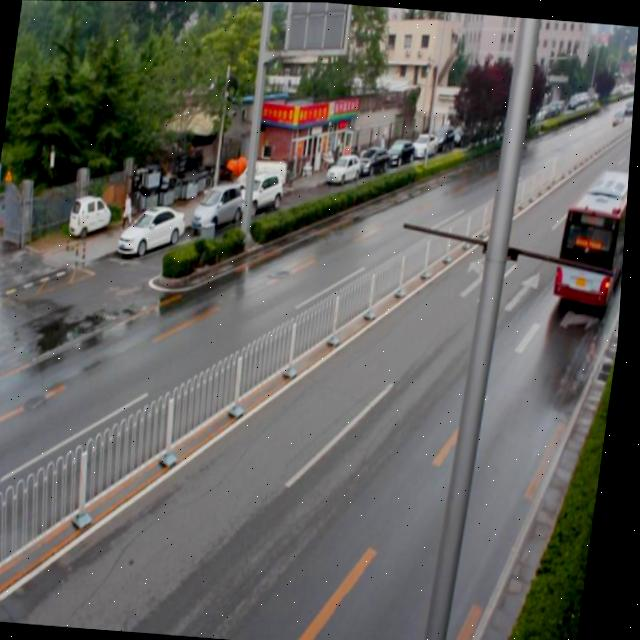van: (553, 164, 632, 307)
